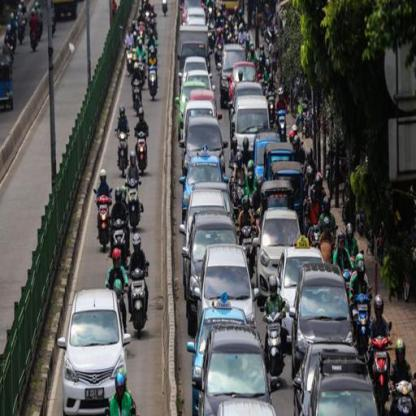car: (64, 287, 125, 411), (202, 327, 276, 413), (295, 264, 350, 351), (198, 242, 257, 322), (254, 209, 302, 288), (235, 98, 269, 150)
motorbike: (127, 262, 154, 336), (92, 191, 110, 242), (112, 213, 134, 254), (128, 177, 144, 228), (137, 128, 151, 174), (116, 126, 128, 171), (150, 61, 160, 101), (132, 76, 142, 104)
